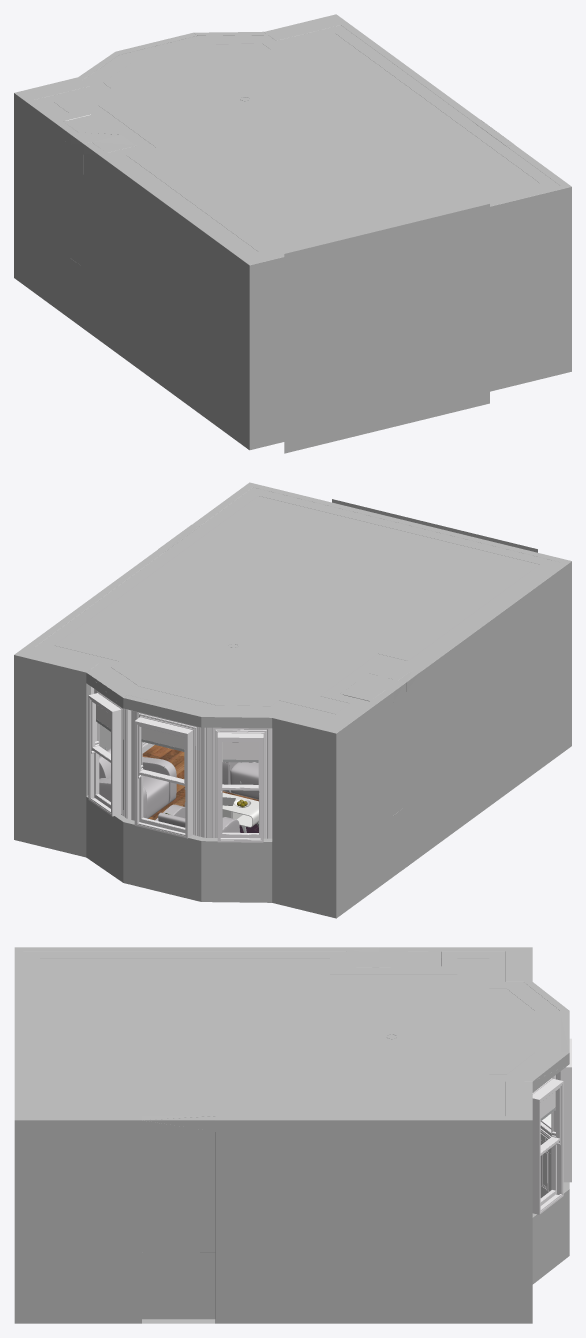
File: white-room.glb
The picture shows the model from 3 angles, top to bottom: view 1: azimuth 30°, elevation 25°; view 2: azimuth 150°, elevation 25°; view 3: azimuth 270°, elevation 25°; orthographic projection. The views are drawn at different scales.
Parts seen in each view (by area): view 1: LampStand; view 2: LampStand, BlindMaterial_0001, Floor; view 3: LampStand.
Part boxes in pixels (bbox=[...]): LampStand: bbox=[14, 14, 571, 453]; LampStand: bbox=[14, 482, 571, 918]; BlindMaterial_0001: bbox=[96, 704, 258, 762]; Floor: bbox=[142, 745, 258, 820]; LampStand: bbox=[14, 947, 571, 1323].
Bounding box in the file's own units: 5.73 × 3.39 × 7.81.
Materials: 19 (19 with a texture image).
